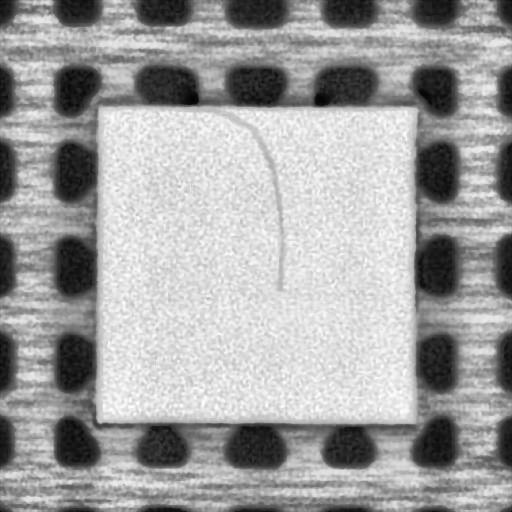DIE_CRACK: (203, 107, 286, 290)
